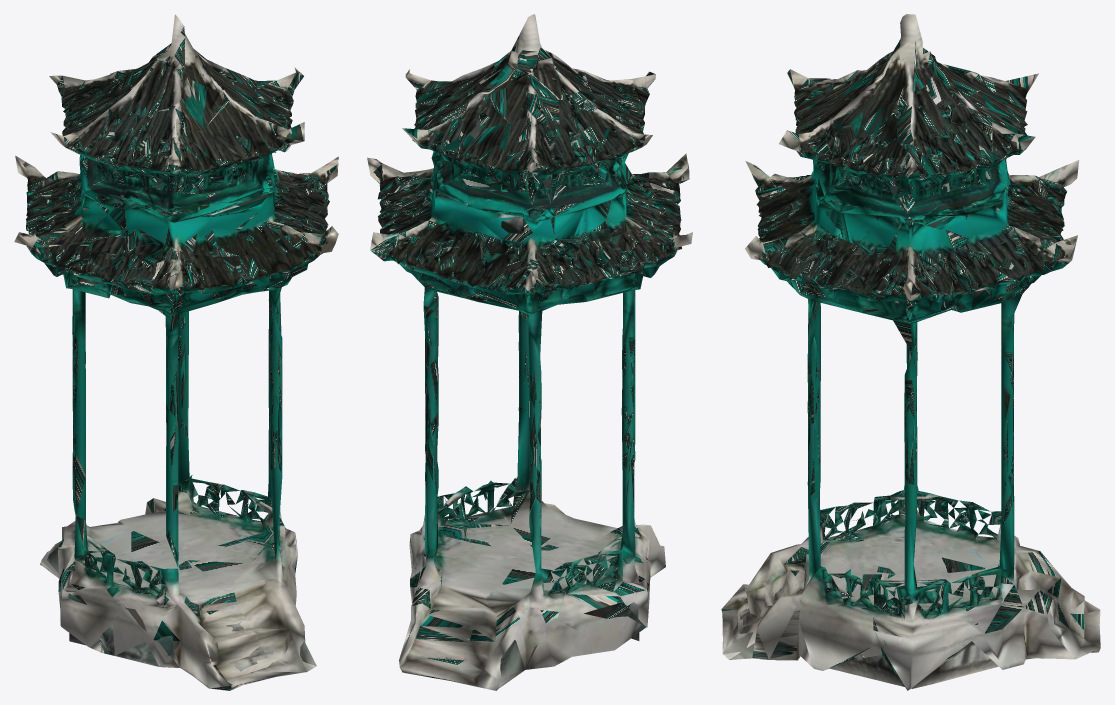
File: bq_herb_pav.mid.glb
3 views of the same model, side by side, from view 1: azimuth 30°, elevation 25°; view 2: azimuth 150°, elevation 25°; view 3: azimuth 270°, elevation 25° (orthographic). The views are drawn at different scales.
Bounding box in the file's own units: 1.08 × 1.9 × 1.05.
Materials: 1 (1 with a texture image).
